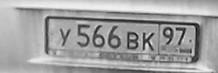license-plateSW: (45, 17, 198, 58)
